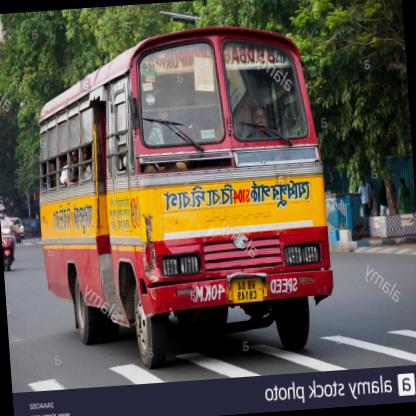bus: (105, 5, 345, 208)
motorcycle: (78, 110, 92, 150)
